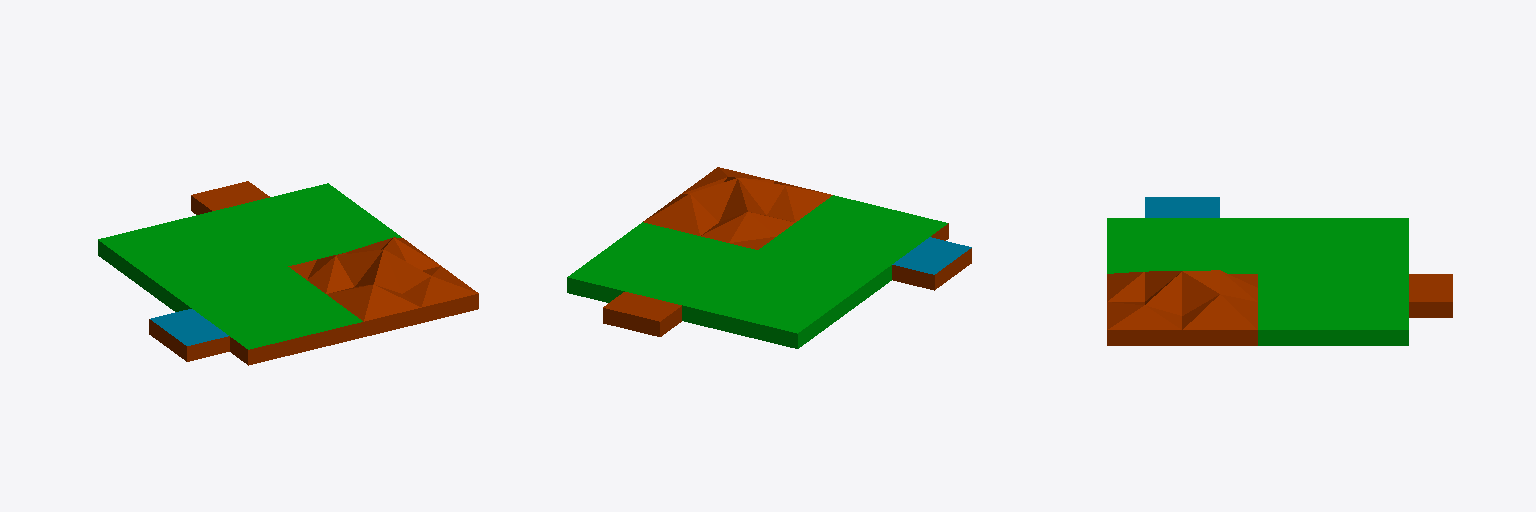
Rendered from map.obj.
3 renders of one model, left to right at view 1: azimuth 30°, elevation 25°; view 2: azimuth 150°, elevation 25°; view 3: azimuth 270°, elevation 25°, orthographic.
Parts seen in each view (by area): view 1: Cube; view 2: Cube; view 3: Cube.
Part boxes in pixels (x1,y1,x2,y2): Cube: (98, 181, 478, 365); Cube: (567, 167, 971, 348); Cube: (1107, 197, 1452, 345).
Bounding box in the file's own units: 6.87 × 1.12 × 7.54.